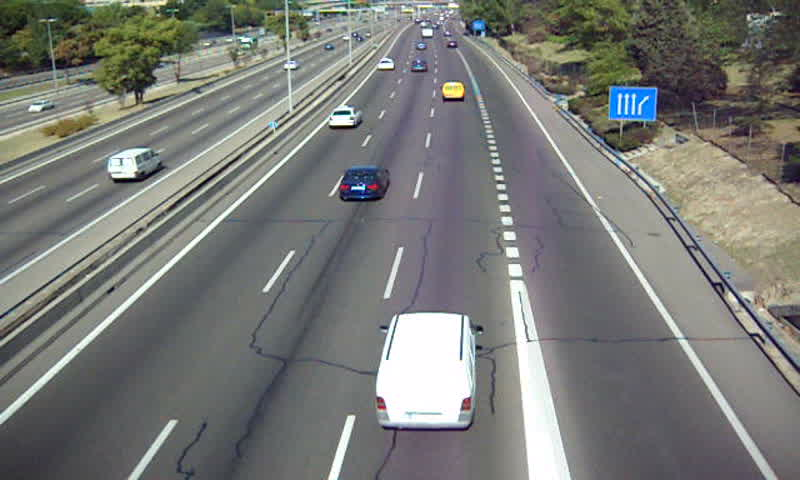car: (338, 164, 388, 201), (329, 108, 362, 128), (409, 59, 429, 74), (376, 58, 394, 72)
van: (376, 312, 478, 430), (442, 82, 466, 101)
